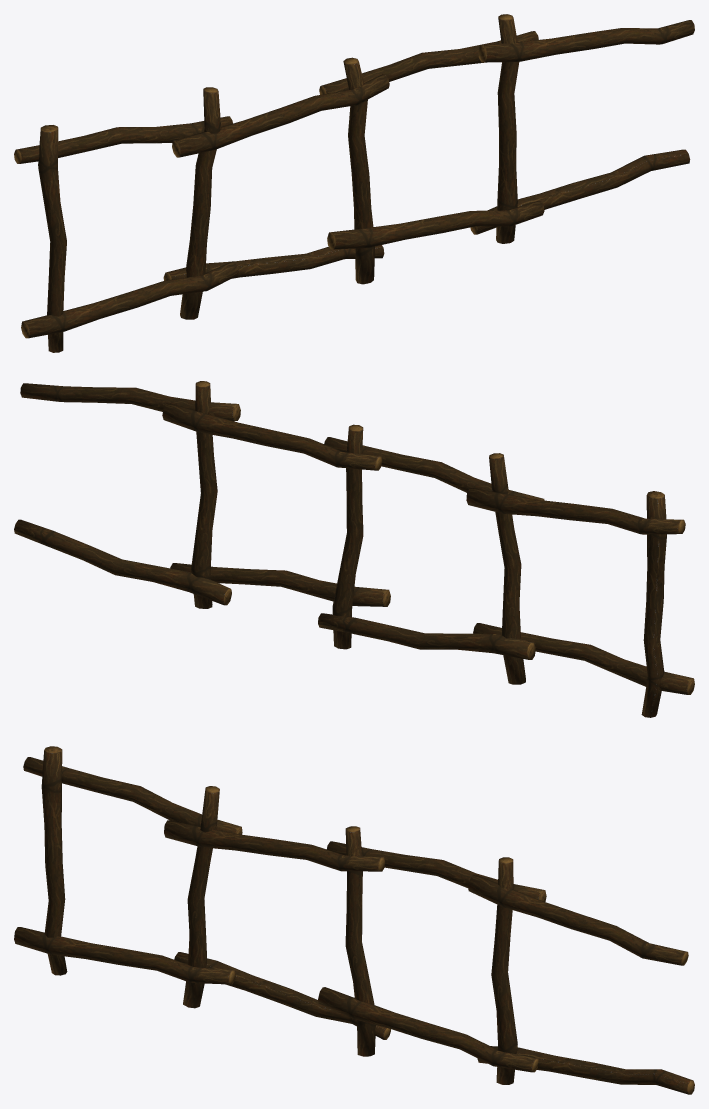
File: shared_stick_fance_03.fbx
The picture shows the model from 3 angles, top to bottom: view 1: azimuth 30°, elevation 25°; view 2: azimuth 150°, elevation 25°; view 3: azimuth 330°, elevation 25°; orthographic projection.
Visible parts, largest first — view 1: shared_stick_fance_03; view 2: shared_stick_fance_03; view 3: shared_stick_fance_03.
Boxes of the visible parts, <box> form: shared_stick_fance_03: <box>14,14,694,352</box>; shared_stick_fance_03: <box>14,381,694,717</box>; shared_stick_fance_03: <box>14,746,694,1094</box>.
Size of the model in its own units: 3.75 by 1.23 by 0.235.
